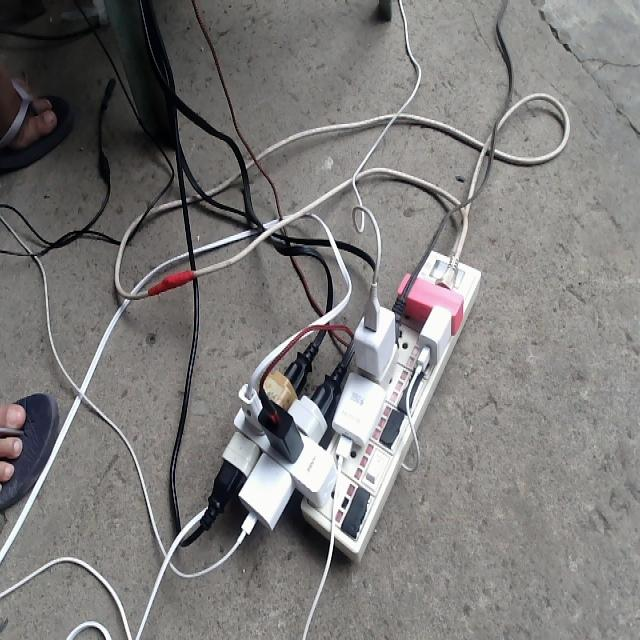-: (210, 245, 483, 559)
